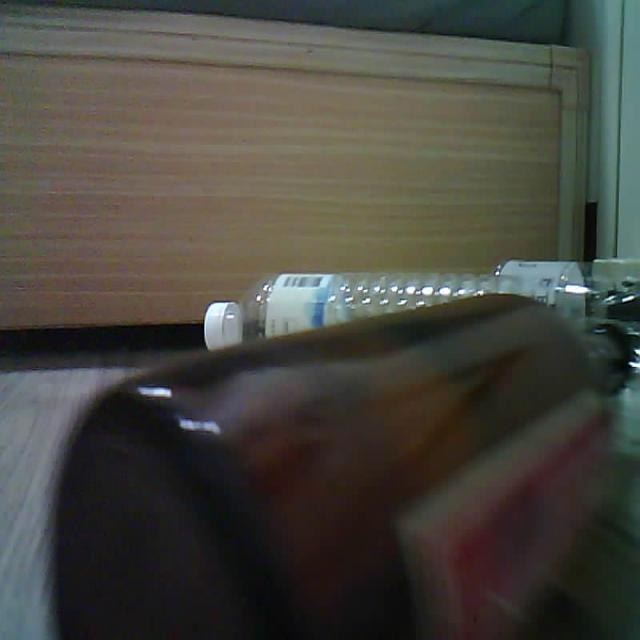bottle: (53, 293, 629, 639), (205, 260, 582, 349)
